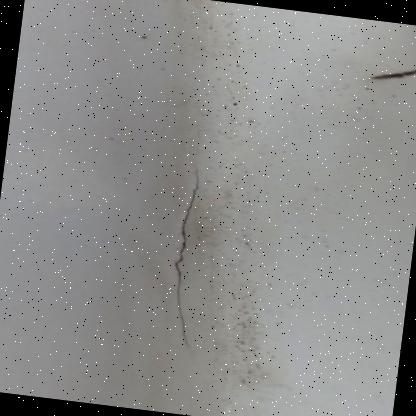Crack: (128, 146, 260, 364), (356, 45, 415, 96)
